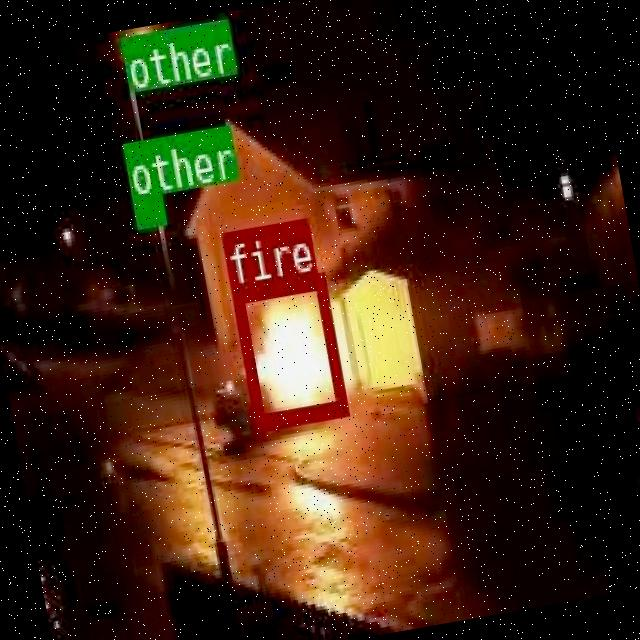fire: (227, 268, 344, 426)
